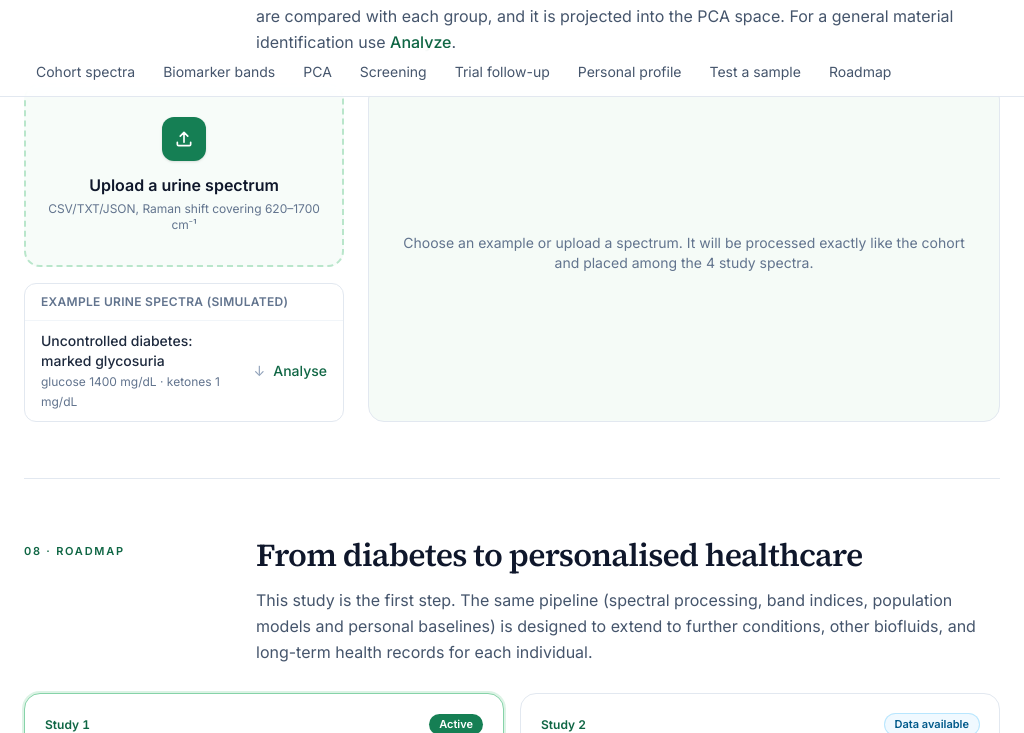
Test: Diabetes study page › analyses an example urine spectrum and states the result is not diagnostic
The image size is (1024, 733).
(page scrolled)
Step 1. Click the button "Analyse" → point(300, 371), box [273,361,327,381]
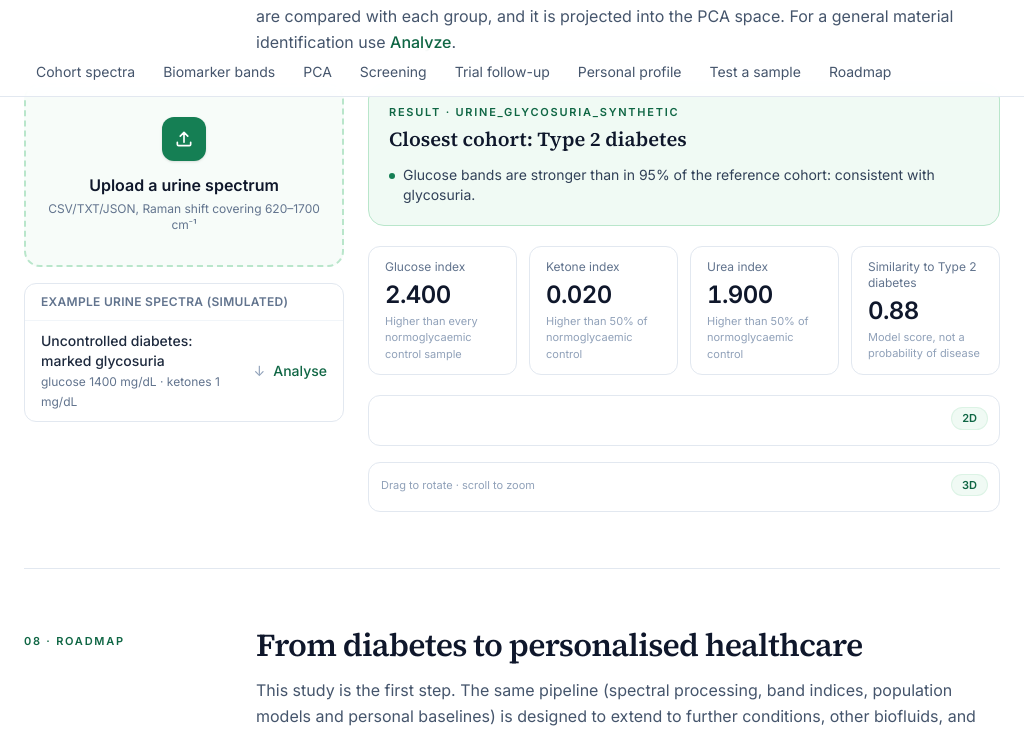
Result: the element named "Urine sample result" shows "Closest cohort: Type 2 diabetes" at [368,83,1000,512]
Result: the element named "Urine sample result" shows "consistent with glycosuria" at [403,166,935,203]
Result: the element named "Urine sample result" shows "not a probability of disease" at [868,330,980,360]
